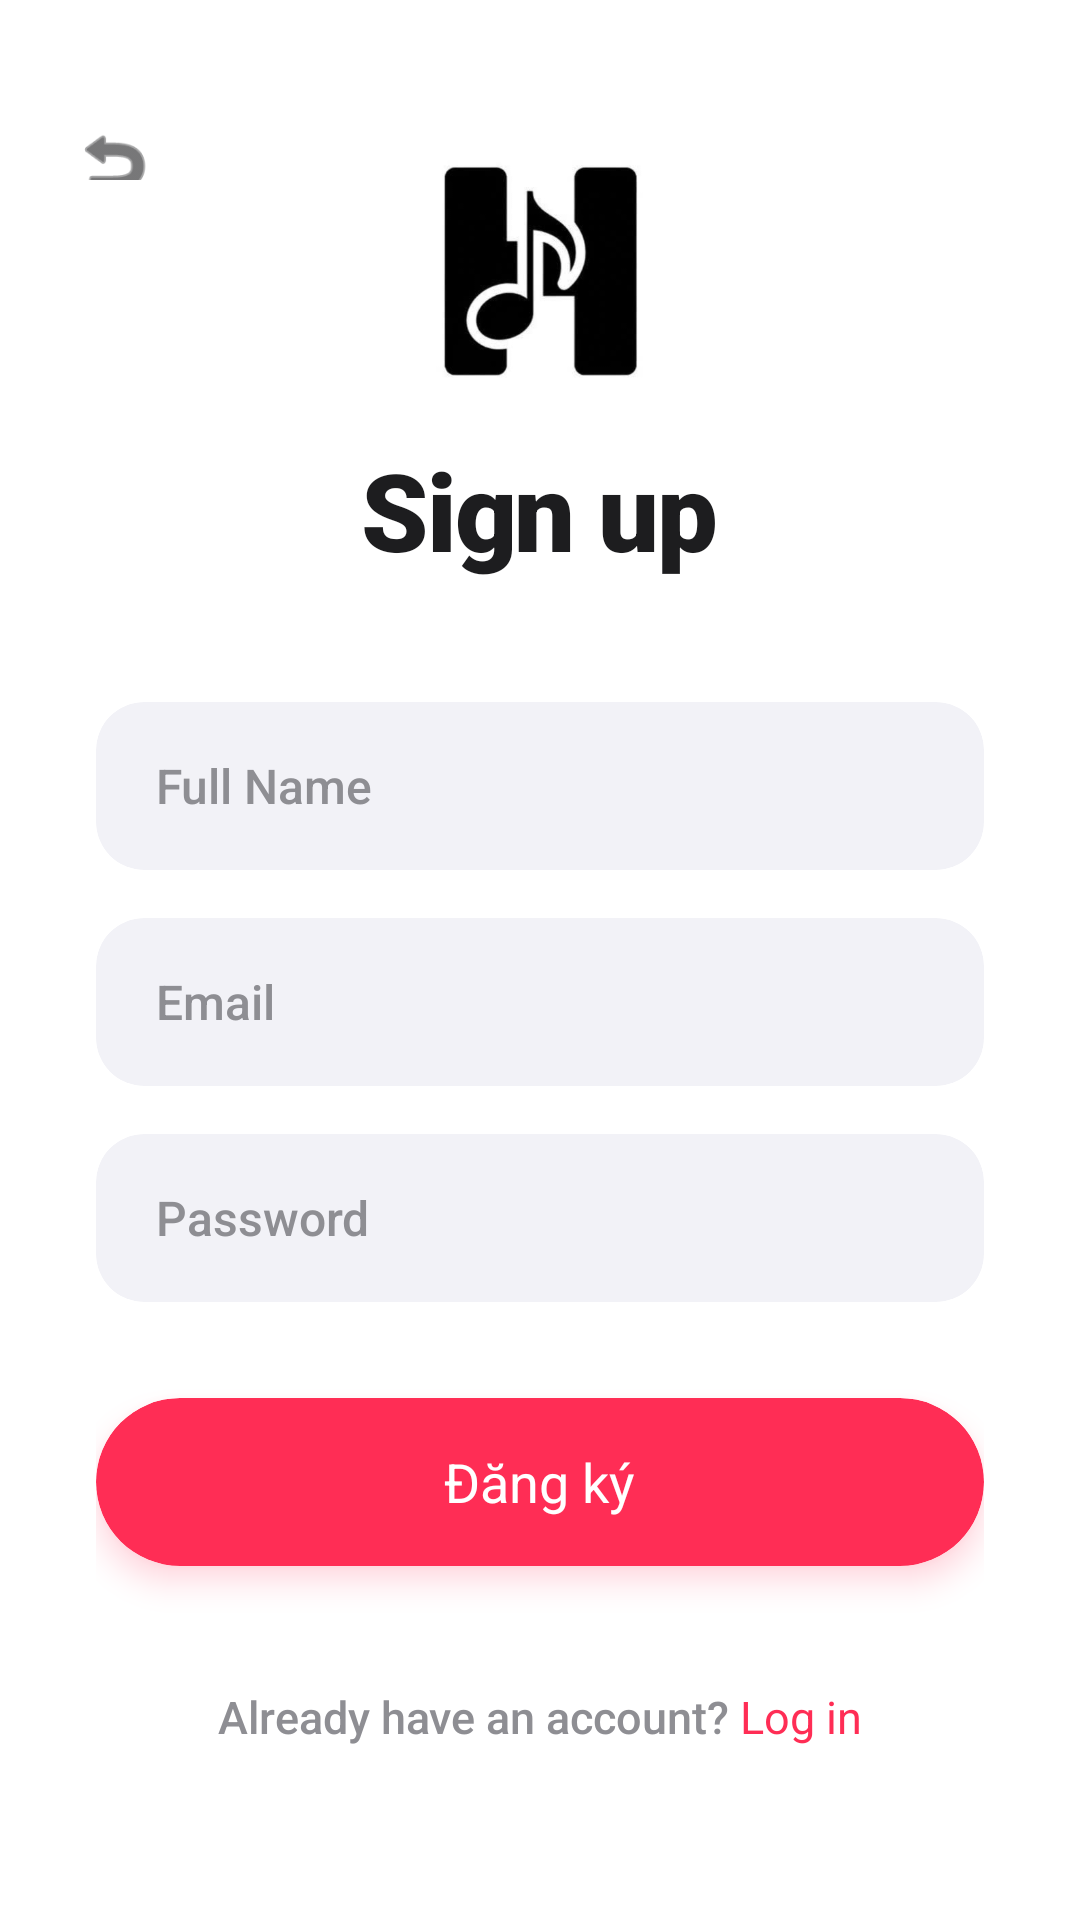

Icon bounding boxes for this 1080×1920 phone screenshot, format bbox(x1, y1, x2, y2):
revert: bbox(85, 135, 145, 180)
